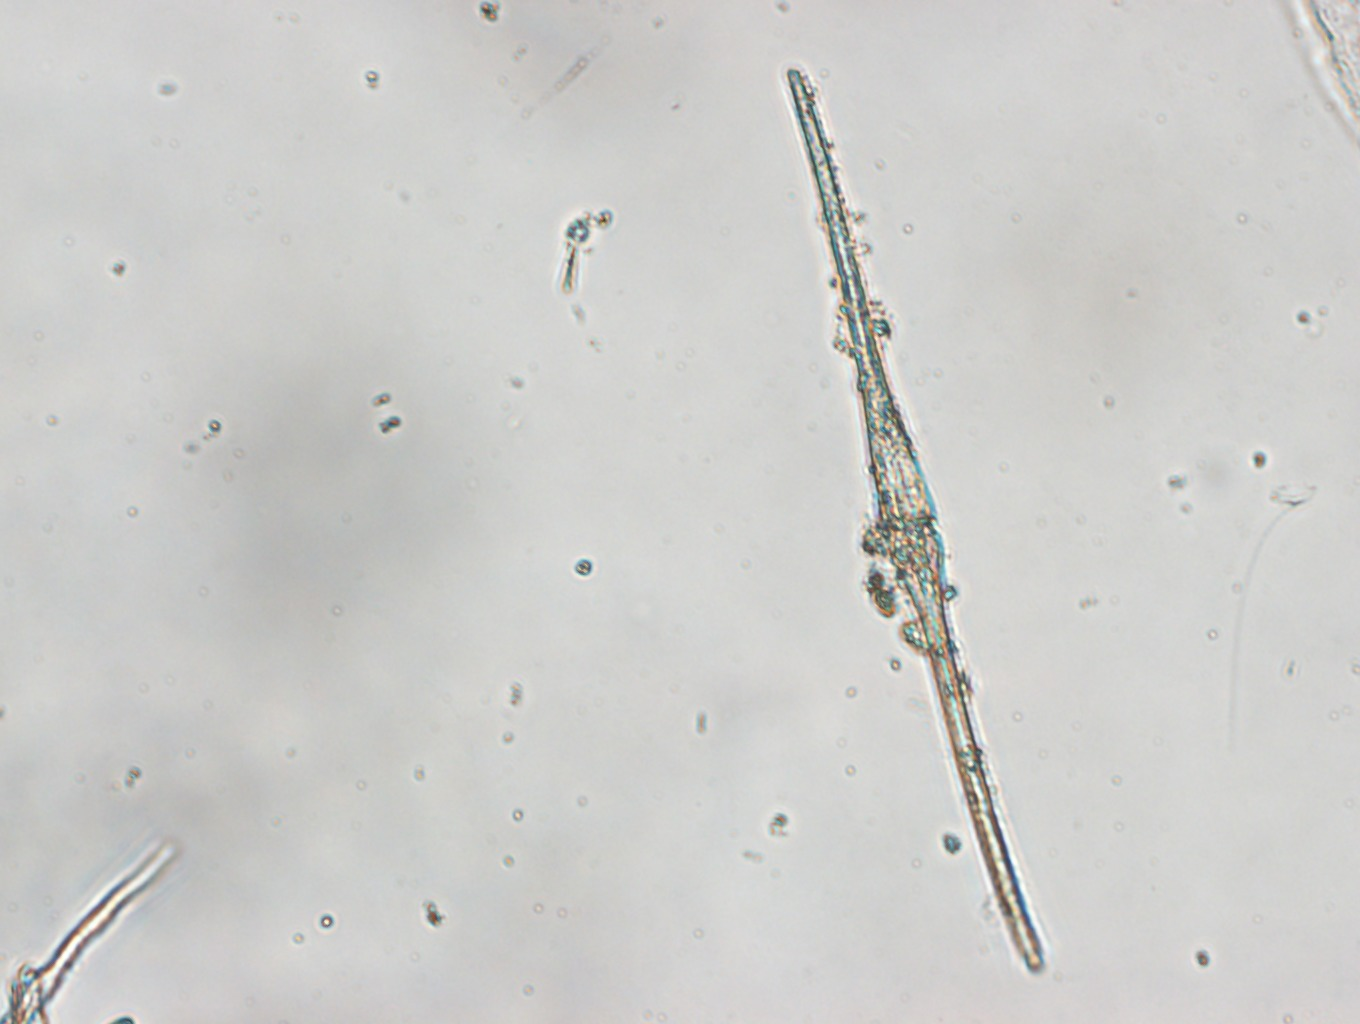ceratium fusus: (778, 62, 1048, 978)
